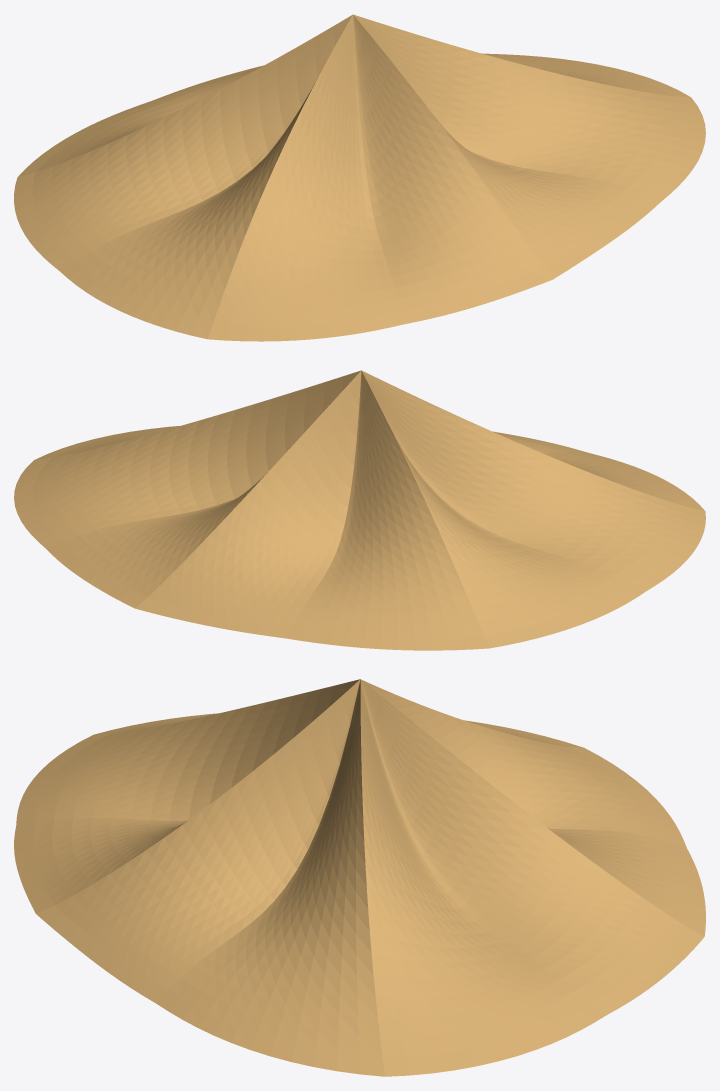
3 views of the same model, one above another, from view 1: azimuth 30°, elevation 25°; view 2: azimuth 150°, elevation 25°; view 3: azimuth 270°, elevation 25° (orthographic). The views are drawn at different scales.
Parts seen in each view (by area): view 1: five_connected_sand_ridges_and_saddles; view 2: five_connected_sand_ridges_and_saddles; view 3: five_connected_sand_ridges_and_saddles.
Boxes of the visible parts, bbox=[...] form: five_connected_sand_ridges_and_saddles: bbox=[14, 14, 705, 341]; five_connected_sand_ridges_and_saddles: bbox=[14, 370, 705, 650]; five_connected_sand_ridges_and_saddles: bbox=[14, 679, 705, 1076].
Bounding box in the file's own units: 389 × 100 × 310.
